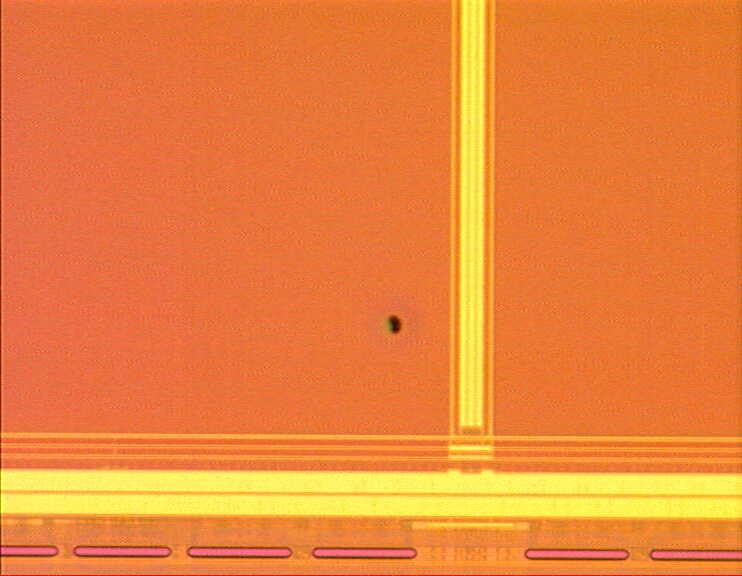PIQ PARTICLE: (383, 309, 411, 337)
